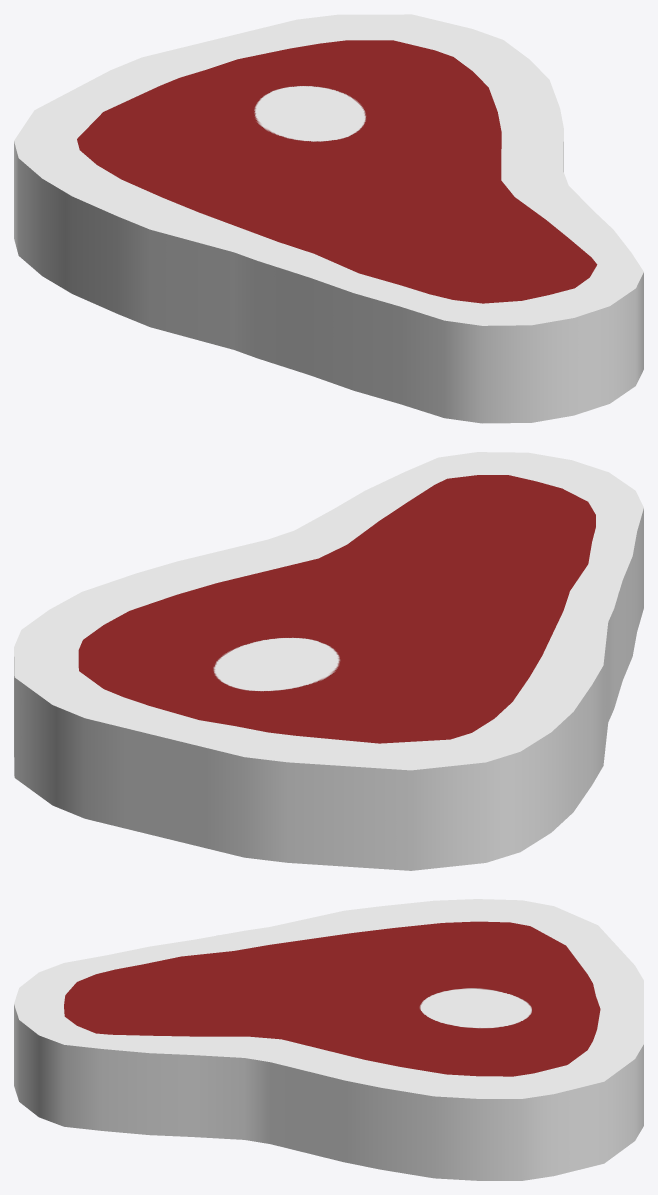
File: big steak.fbx
3 views of the same model, one above another, from view 1: azimuth 30°, elevation 25°; view 2: azimuth 150°, elevation 25°; view 3: azimuth 270°, elevation 25° (orthographic). The views are drawn at different scales.
Visible parts, largest first — view 1: pPlane1; view 2: pPlane1; view 3: pPlane1.
Boxes of the visible parts, box(x1,y1,x2,y2) form: pPlane1: box(14, 14, 643, 423); pPlane1: box(14, 452, 643, 870); pPlane1: box(14, 899, 643, 1180).
Bounding box in the file's own units: 62.16 × 11.88 × 82.75.
Materials: 1 (1 with a texture image).
